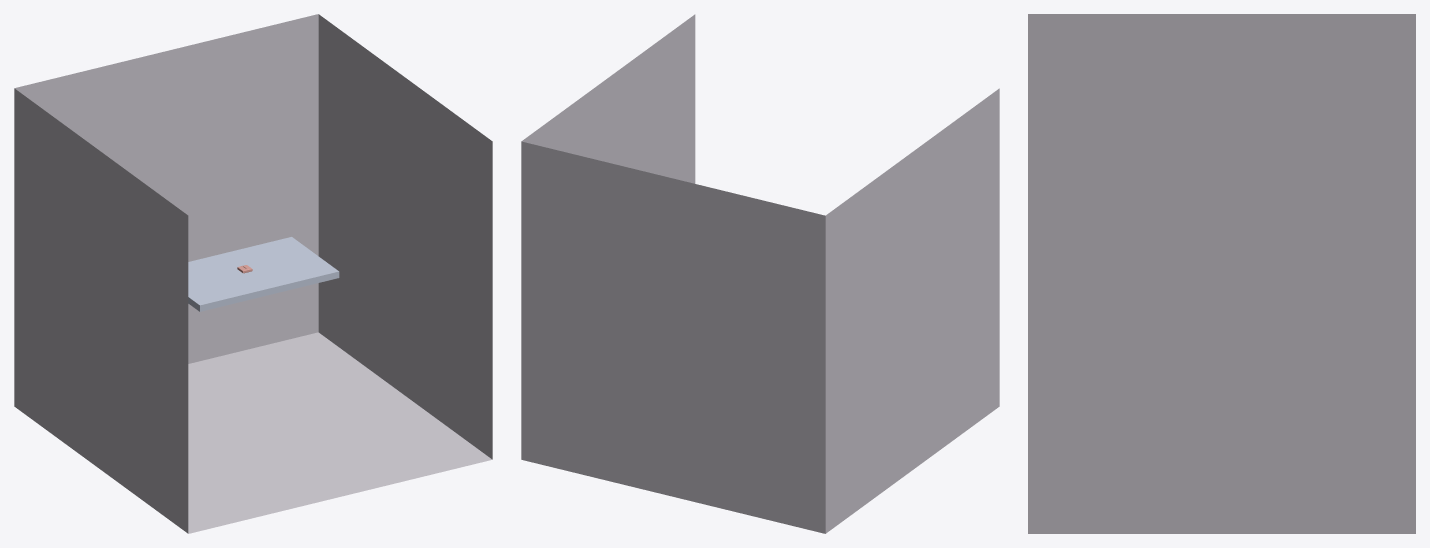
The model's file is MockupMundo.glb.
3 views of the same model, side by side, from view 1: azimuth 30°, elevation 25°; view 2: azimuth 150°, elevation 25°; view 3: azimuth 270°, elevation 25° (orthographic). The views are drawn at different scales.
Visible parts, largest first — view 1: Plane, Cube.002; view 2: Plane; view 3: Plane.
Boxes of the visible parts, <box> form: Plane: <box>14,14,492,533</box>; Cube.002: <box>188,237,339,311</box>; Plane: <box>521,14,999,533</box>; Plane: <box>1028,14,1415,533</box>.
Bounding box in the file's own units: 2 × 2 × 1.98.
